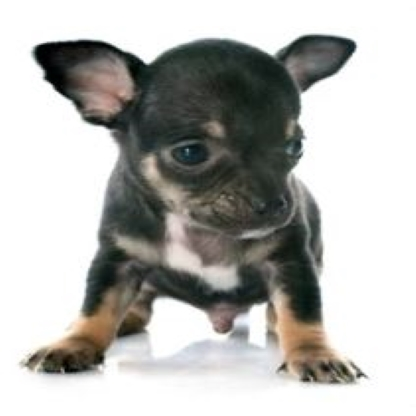chihuahua: (18, 35, 370, 391)
